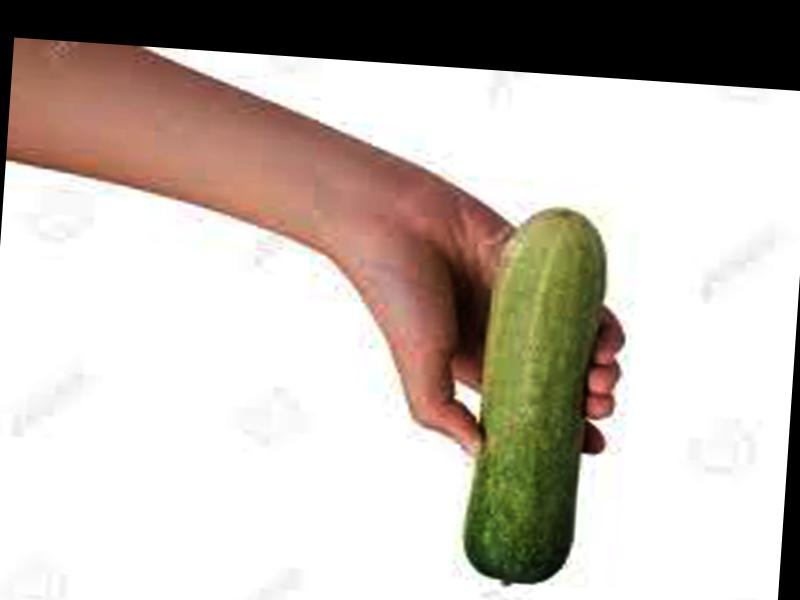Cucumber: (454, 200, 606, 592)
